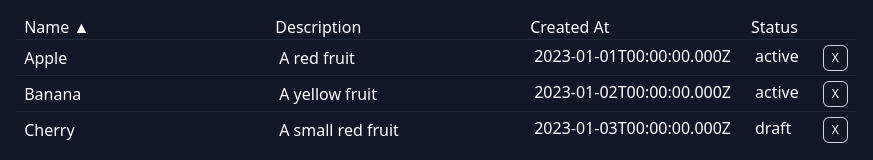
List Component - Sorting Logic › should show sort indicators correctly
The image size is (873, 160).
After click - should show desc indicator
Click the text "Name" at (57, 27), box [24, 16, 89, 38]
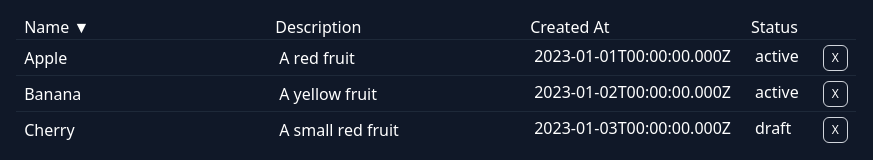
Check: the text "Name" reads "Name ▼", box [24, 16, 89, 38]
